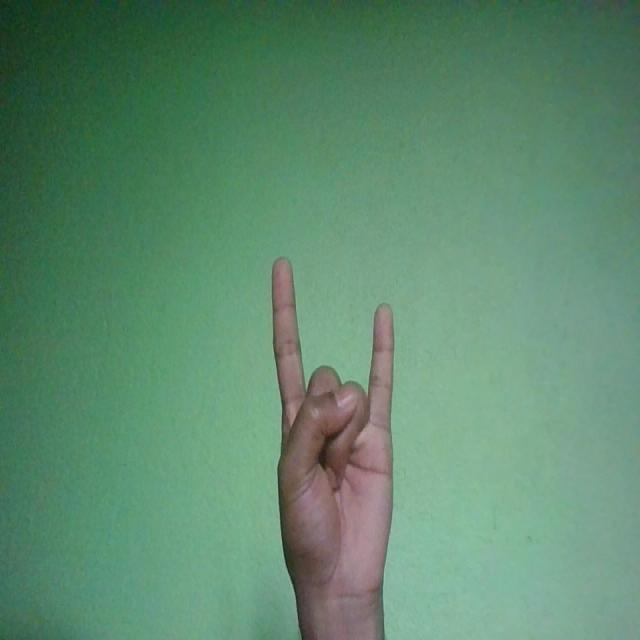open Plam: (271, 256, 394, 614)
